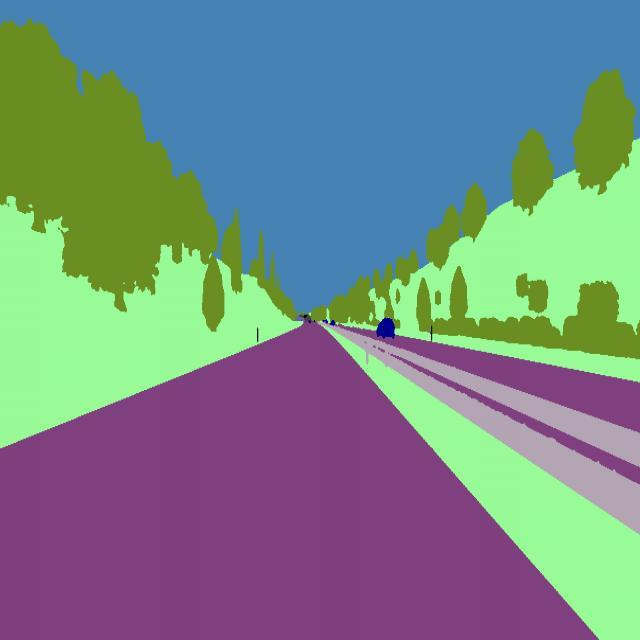safe: (374, 314, 398, 344), (328, 318, 338, 326)
